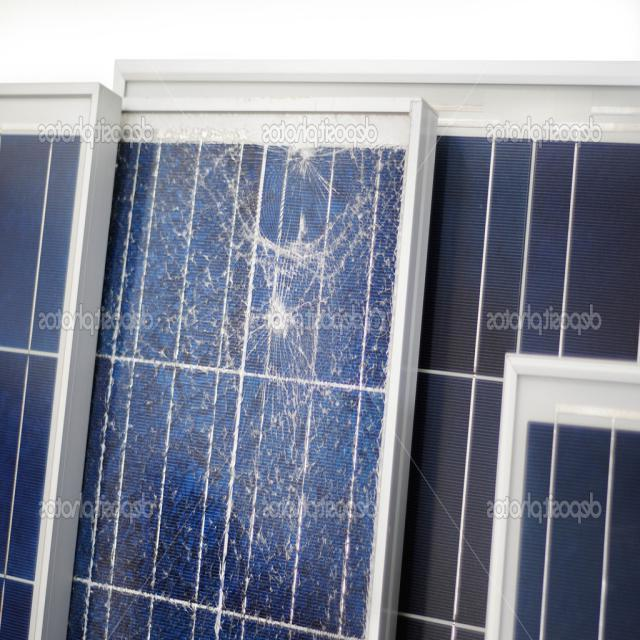cracked: (71, 103, 418, 640)
